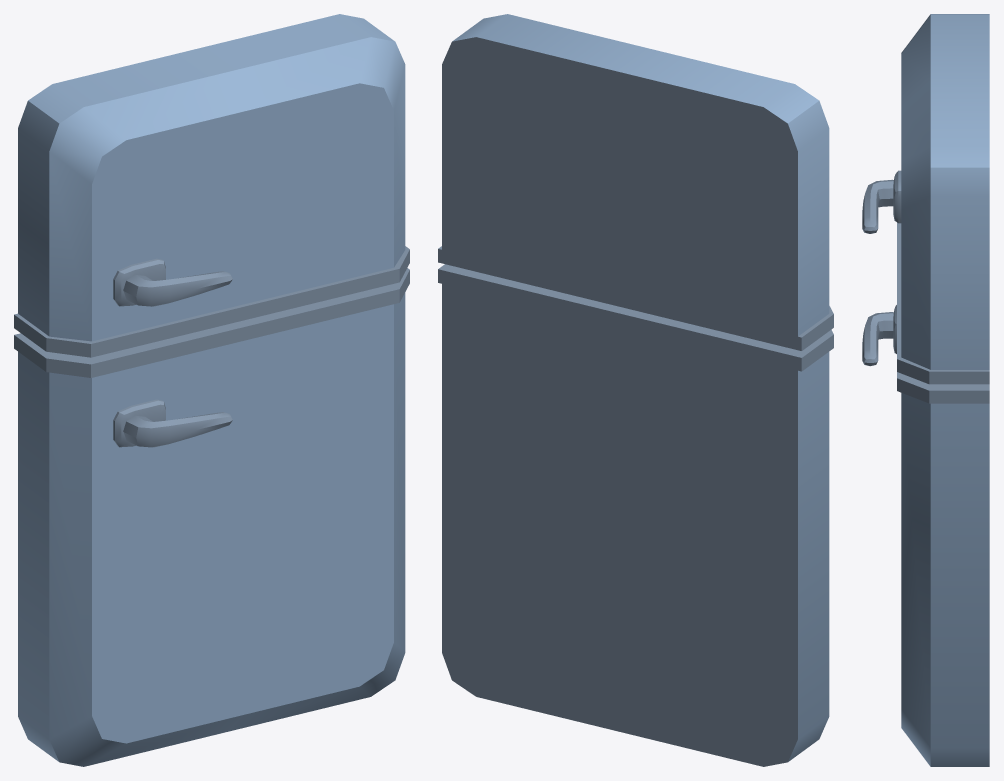
The model's file is Fridge_Door.glb.
The picture shows the model from 3 angles, left to right: view 1: azimuth 30°, elevation 25°; view 2: azimuth 150°, elevation 25°; view 3: azimuth 270°, elevation 25°; orthographic projection. The views are drawn at different scales.
Parts seen in each view (by area): view 1: Environment_Fridge_Door; view 2: Environment_Fridge_Door; view 3: Environment_Fridge_Door.
Part boxes in pixels (<box>): Environment_Fridge_Door: <box>14,14,409,766</box>; Environment_Fridge_Door: <box>438,14,833,766</box>; Environment_Fridge_Door: <box>862,14,989,766</box>.
Bounding box in the file's own units: 2.41 × 4.18 × 0.7806.
1 material, 1 textured.
